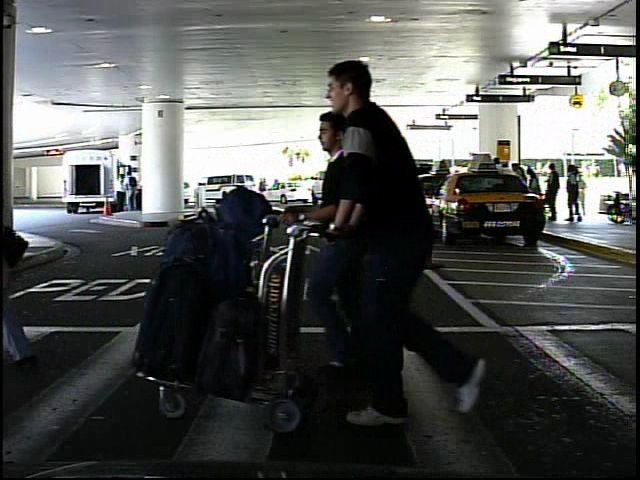person: (330, 48, 511, 427), (296, 112, 371, 385), (578, 172, 597, 218), (114, 172, 129, 213)
